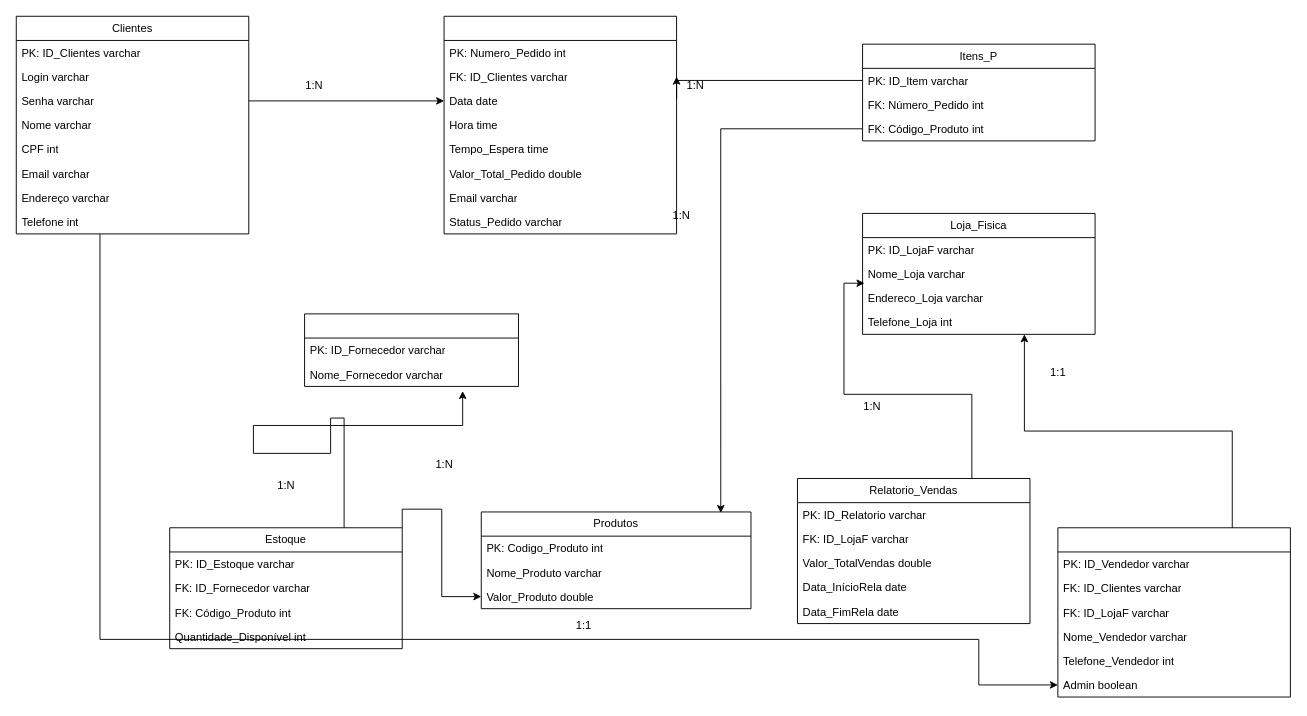
The diagram is 1307 pixels wide and 716 high, and some of its shapes have lost their labels. The shapes that lost their labels are listed below. From the top down, each one's box as (x1, y1, x2, y2) in pixels, then its label:
(443, 15, 677, 234): Pedidos
(304, 313, 518, 386): Fornecedores
(1057, 527, 1290, 697): Vendedores
